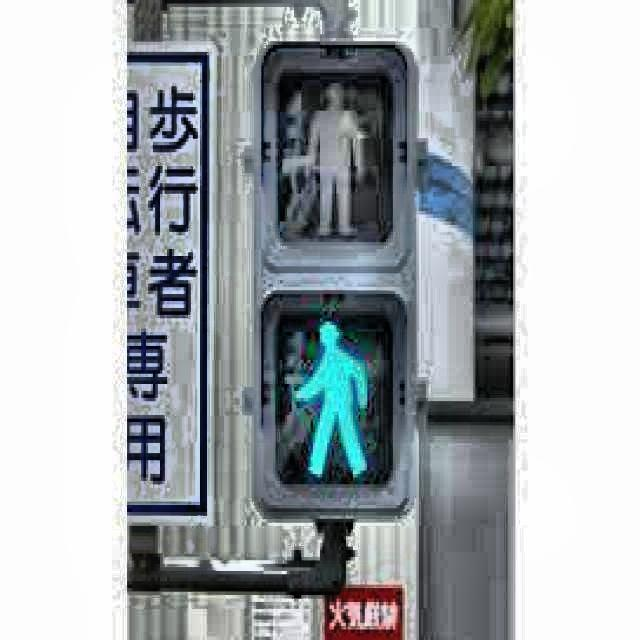semaforo pedestre: (186, 20, 476, 568), (253, 294, 410, 492)
